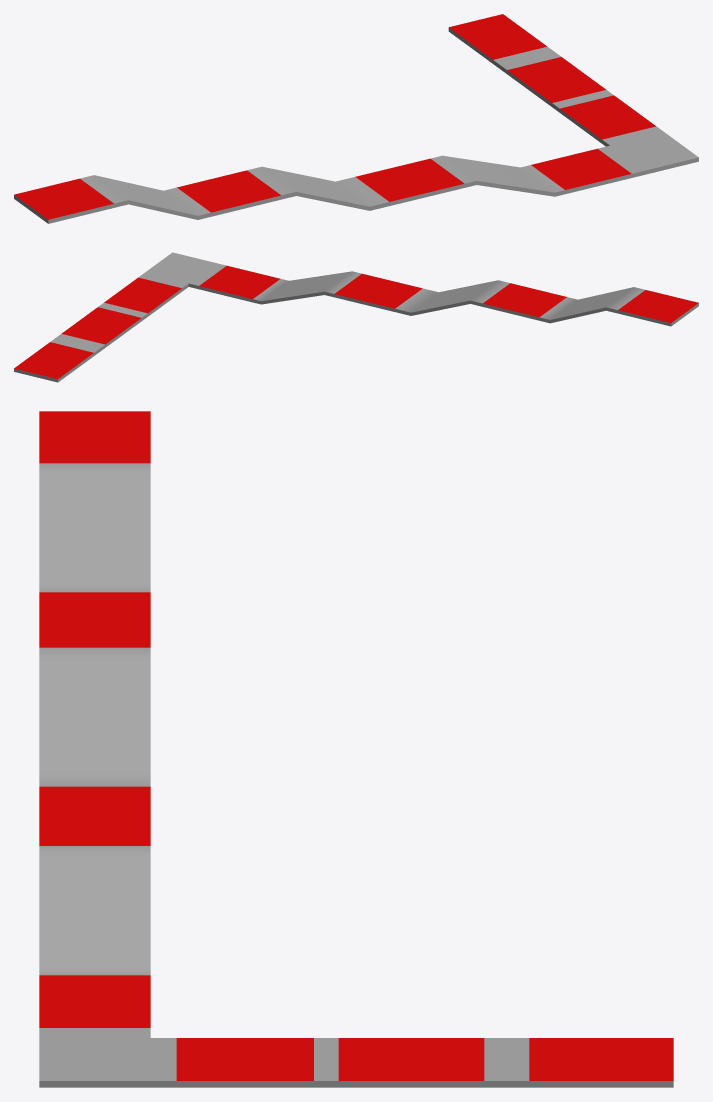
Rendered from HOR3-1.fbx.
3 renders of one model, top to bottom at view 1: azimuth 30°, elevation 25°; view 2: azimuth 150°, elevation 25°; view 3: azimuth 270°, elevation 25°, orthographic. The views are drawn at different scales.
Parts seen in each view (by area): view 1: pCube1; view 2: pCube1; view 3: pCube1.
Part boxes in pixels (bbox=[...]): pCube1: bbox=[14, 14, 698, 223]; pCube1: bbox=[14, 252, 698, 382]; pCube1: bbox=[39, 411, 673, 1087].
Size of the model in its own units: 260 by 38.46 by 136.
